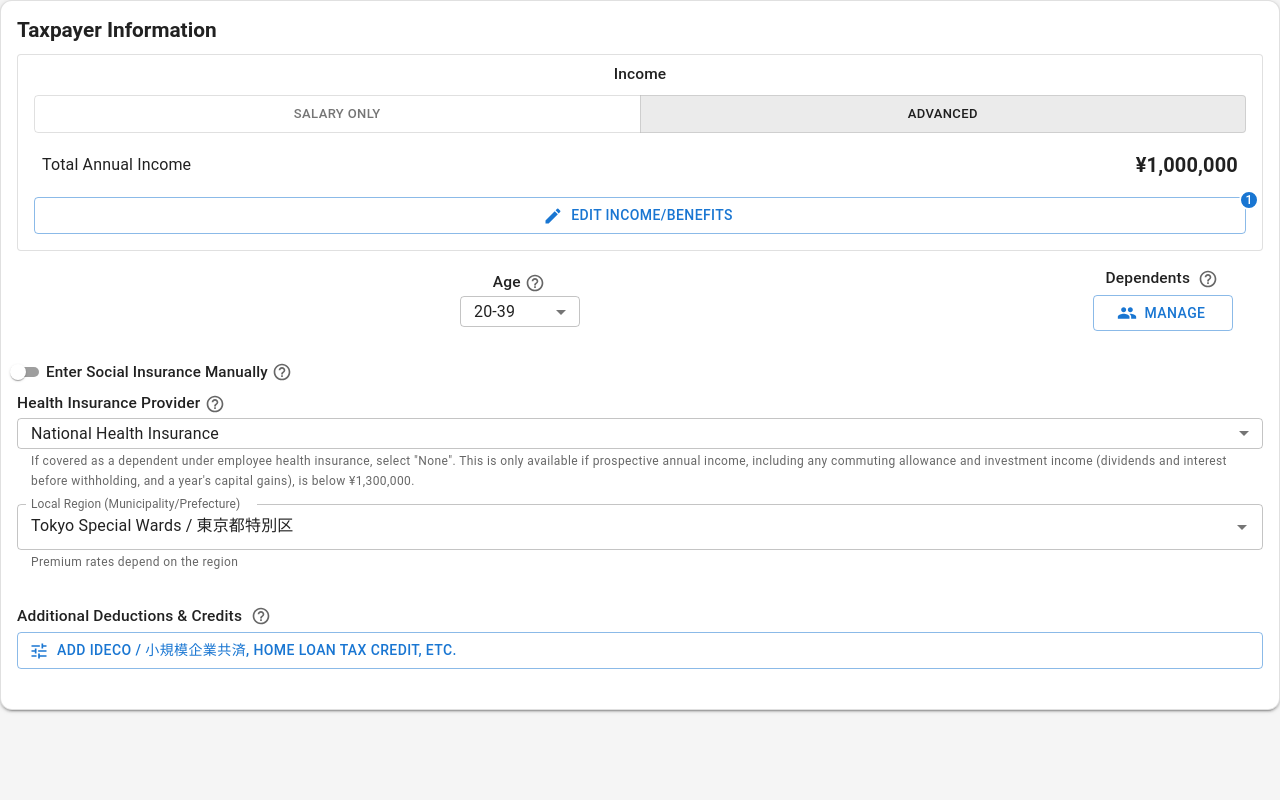
it: TakeHomeInputForm Tests › when in advanced mode with only non-employment income › should show dependent coverage and NHI when income is below threshold
The image size is (1280, 800).
// Click to open dropdown
Step 1. Click the dropdown named "health insurance provider" → coordinates (125, 433), box [31,424,219,443]
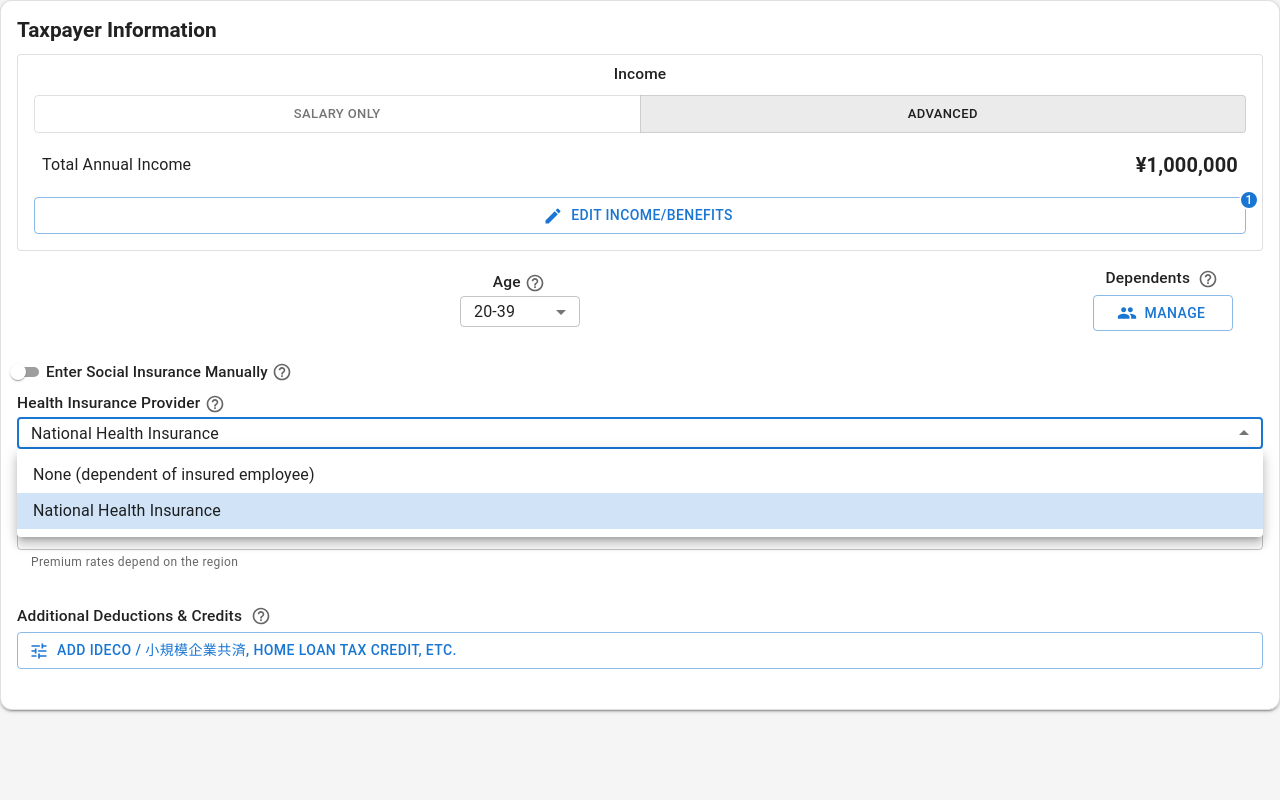
Result: the option "None (dependent of insured employee)" is shown at [33,465,315,484]
Result: the option "National Health Insurance" is shown at [17,493,1263,529]
